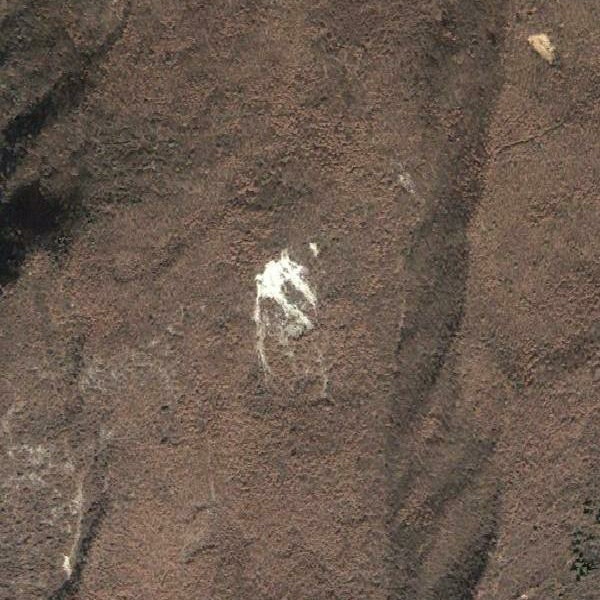slope: (246, 237, 324, 373), (526, 29, 565, 72)
